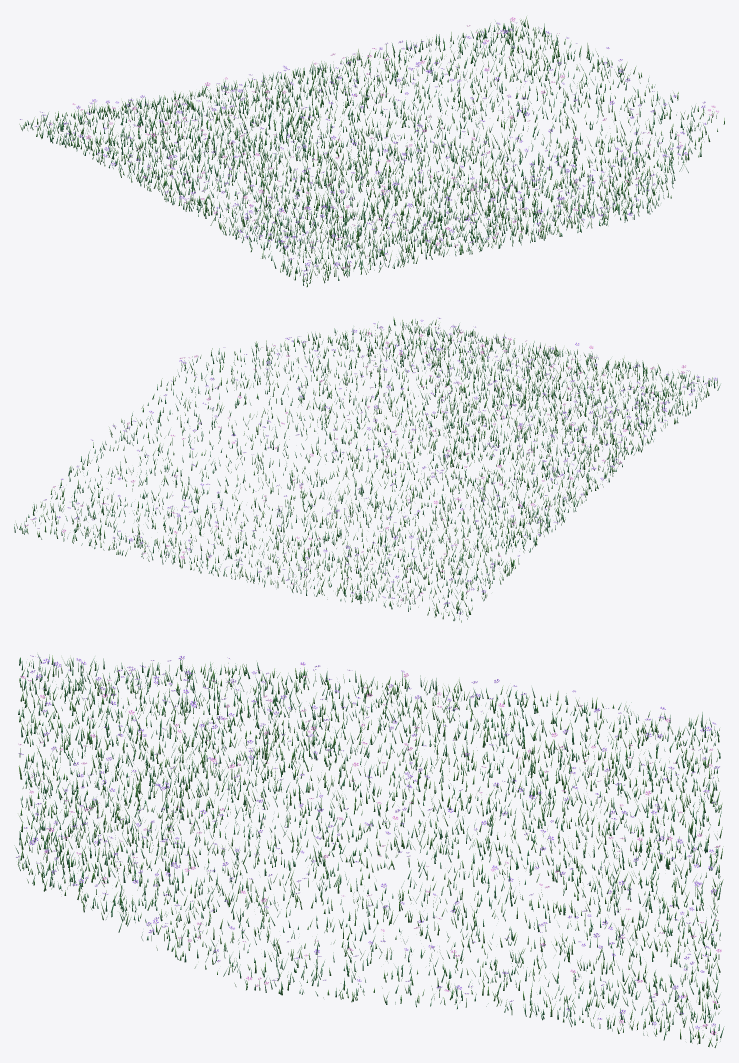
3 views of the same model, one above another, from view 1: azimuth 30°, elevation 25°; view 2: azimuth 150°, elevation 25°; view 3: azimuth 270°, elevation 25° (orthographic). The views are drawn at different scales.
Parts seen in each view (by area): view 1: gc_27; view 2: gc_27; view 3: gc_27.
Part boxes in pixels (x1,y1,x2,y2): gc_27: (19,16,724,286); gc_27: (14,317,720,622); gc_27: (14,654,724,1047).
Size of the model in its own units: 18.2 by 2.96 by 18.22.
Materials: 1 (1 with a texture image).
